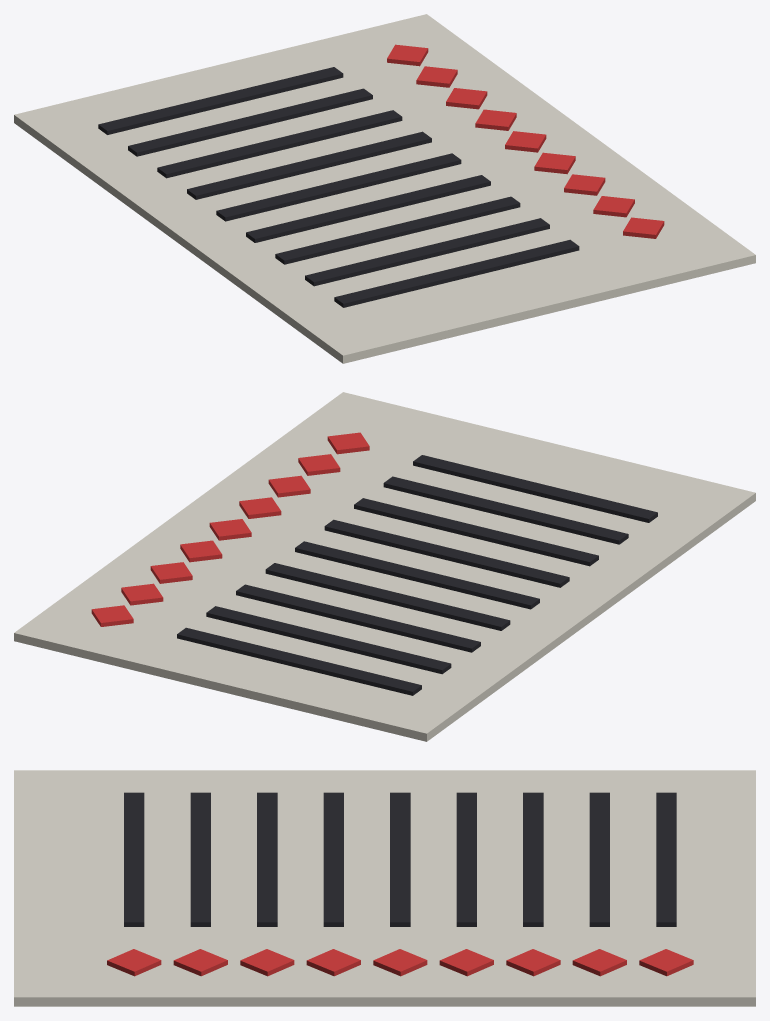
File: garage_stolen_list.glb
3 renders of one model, top to bottom at view 1: azimuth 30°, elevation 25°; view 2: azimuth 150°, elevation 25°; view 3: azimuth 270°, elevation 25°, orthographic. The views are drawn at different scales.
Parts seen in each view (by area): view 1: paper_sheet_paper, lines_sheet_ink (×9), ticks_list_tick (×9); view 2: paper_sheet_paper, lines_sheet_ink (×9), ticks_list_tick (×9); view 3: paper_sheet_paper, lines_sheet_ink (×9), ticks_list_tick (×9).
Boxes of the visible parts, x1,y1,x2,y2 form: paper_sheet_paper: [14, 14, 755, 363]; lines_sheet_ink (×9): [98, 67, 579, 307]; ticks_list_tick (×9): [387, 44, 664, 238]; paper_sheet_paper: [14, 392, 755, 741]; lines_sheet_ink (×9): [177, 455, 657, 695]; ticks_list_tick (×9): [91, 432, 369, 626]; paper_sheet_paper: [14, 770, 755, 1006]; lines_sheet_ink (×9): [124, 792, 676, 926]; ticks_list_tick (×9): [107, 949, 693, 976].
Bounding box in the file's own units: 0.21 × 0.006 × 0.29.
